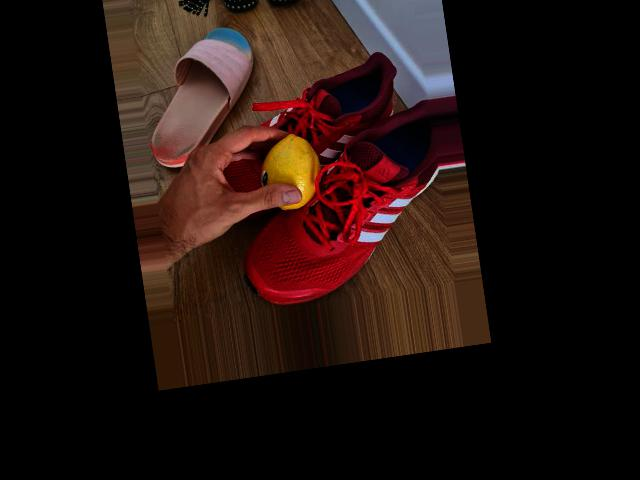lemon: (259, 130, 326, 214)
